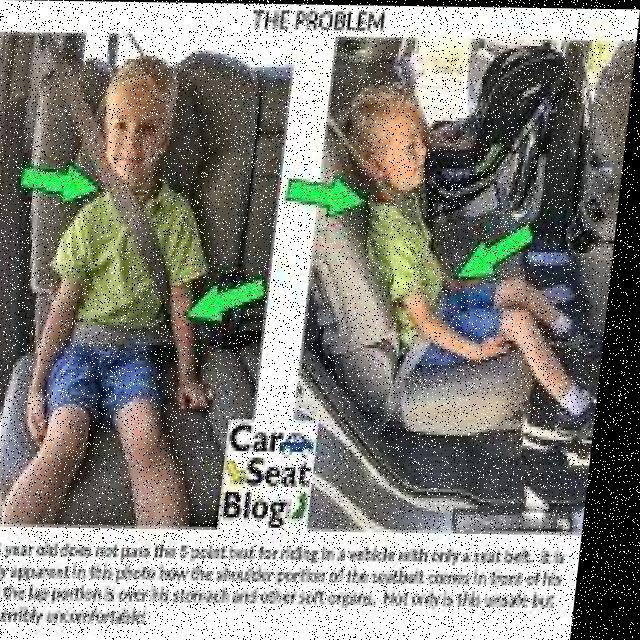seatbelt: (54, 162, 215, 380)
